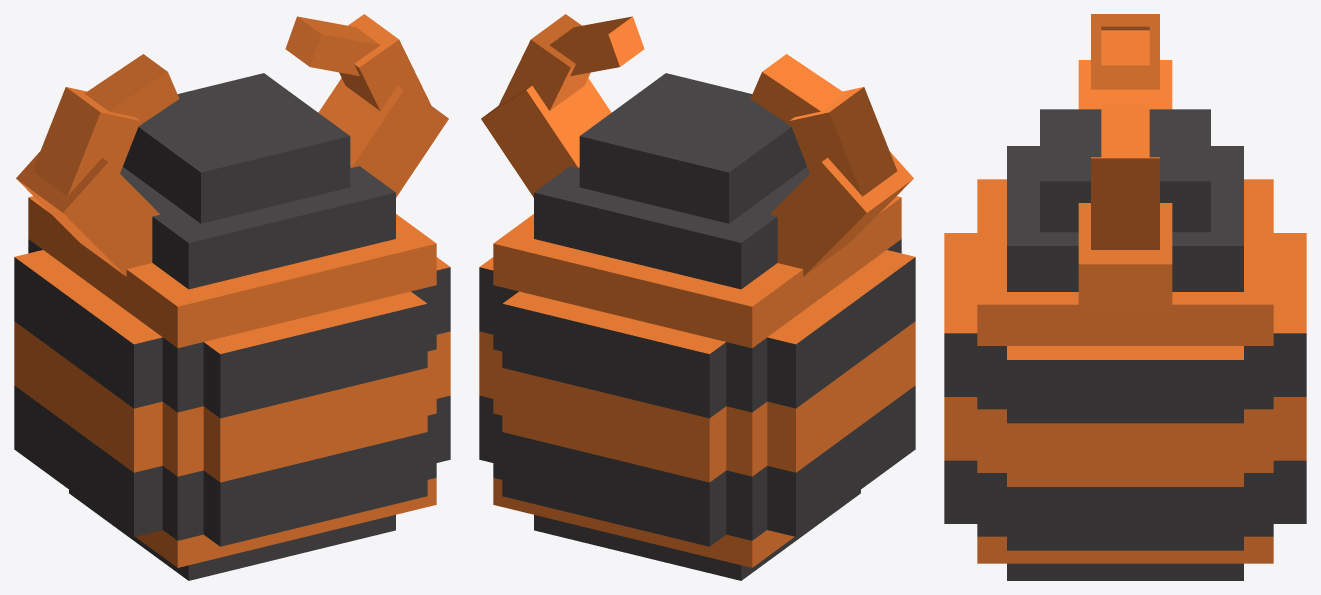
File: 43.Flaming Bull.fbx
The picture shows the model from 3 angles, left to right: view 1: azimuth 30°, elevation 25°; view 2: azimuth 150°, elevation 25°; view 3: azimuth 270°, elevation 25°; orthographic projection.
Parts seen in each view (by area): view 1: Flaming_Bull; view 2: Flaming_Bull; view 3: Flaming_Bull.
Part boxes in pixels (x1,y1,x2,y2): Flaming_Bull: [14, 14, 450, 580]; Flaming_Bull: [479, 14, 915, 580]; Flaming_Bull: [944, 14, 1306, 580].
Size of the model in its own units: 3.52 by 4.07 by 2.89.
